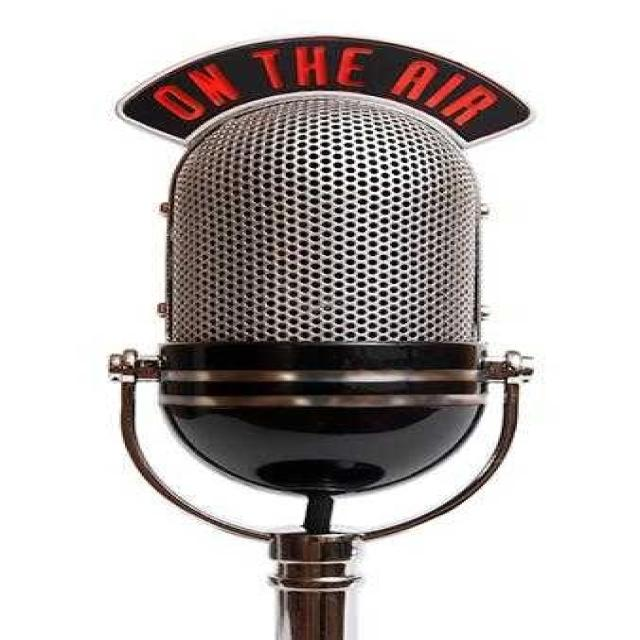microphone: (118, 40, 539, 632)
